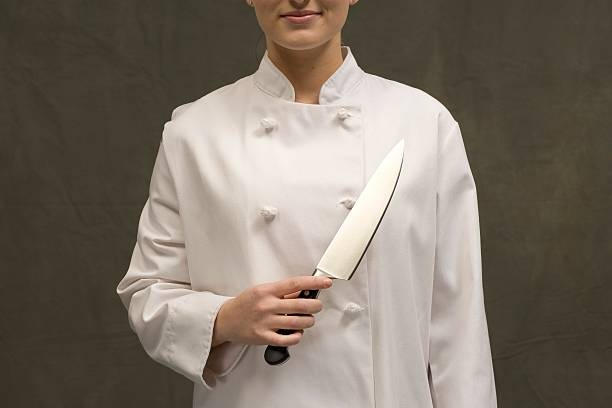knife: (260, 138, 406, 372)
person: (120, 1, 488, 408)
